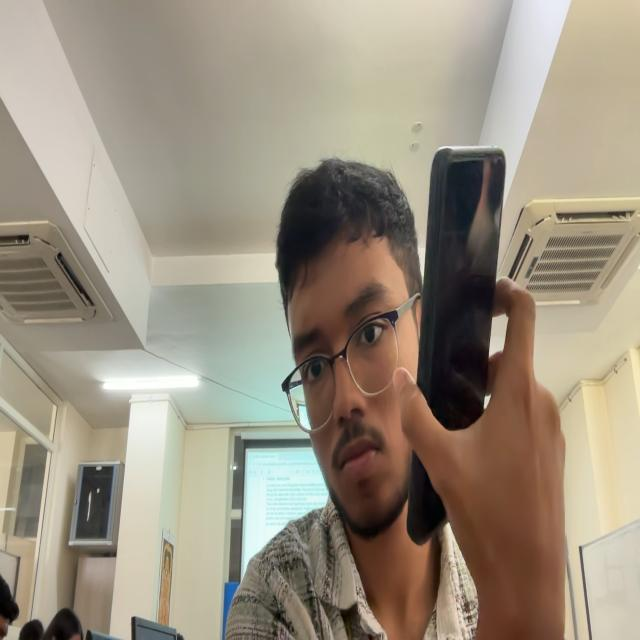Useful: (415, 146, 505, 429), (407, 452, 446, 545)
